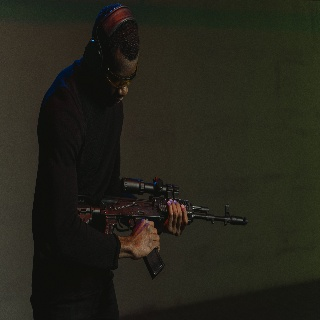rifle: (77, 174, 249, 280)
